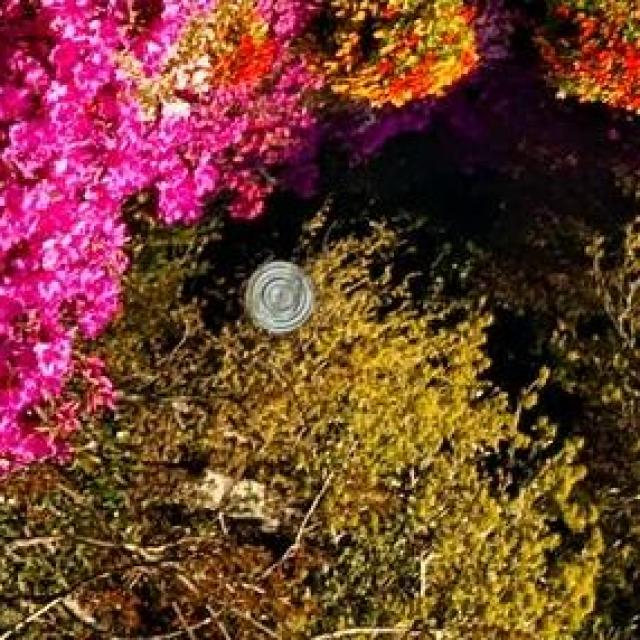logam: (247, 265, 317, 339)
